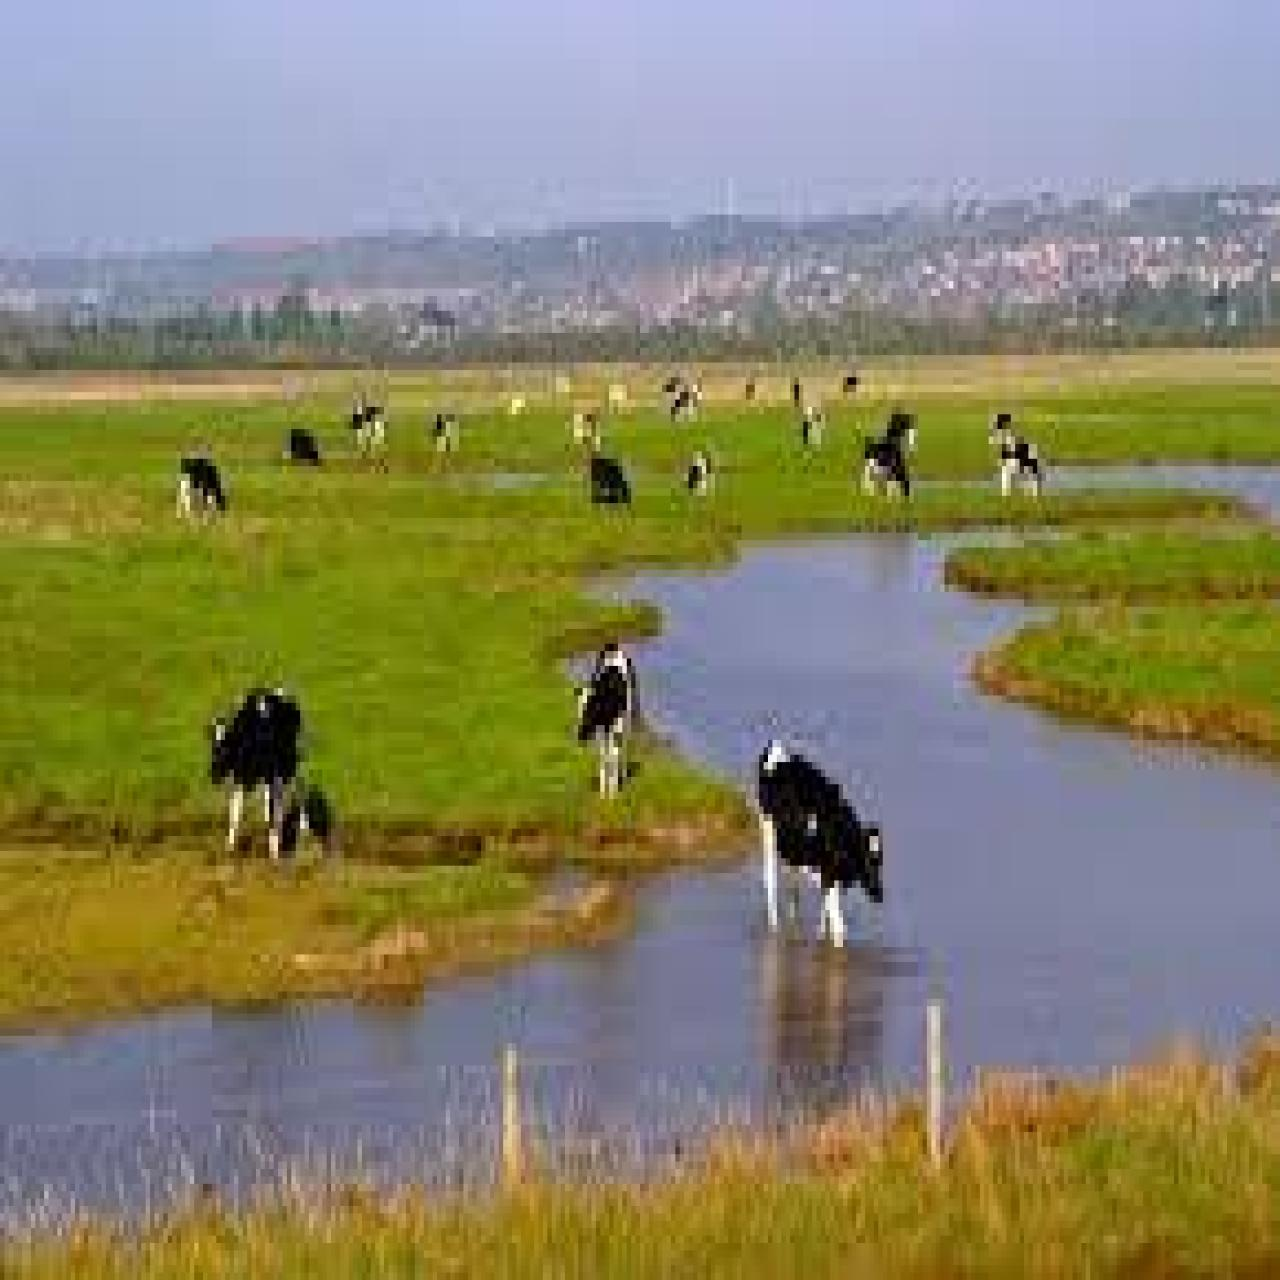cow: (755, 736, 887, 951), (210, 685, 312, 855), (576, 640, 642, 795), (181, 451, 230, 525), (858, 436, 915, 496), (990, 436, 1040, 496), (592, 455, 635, 515), (353, 400, 389, 451), (688, 444, 710, 503)
